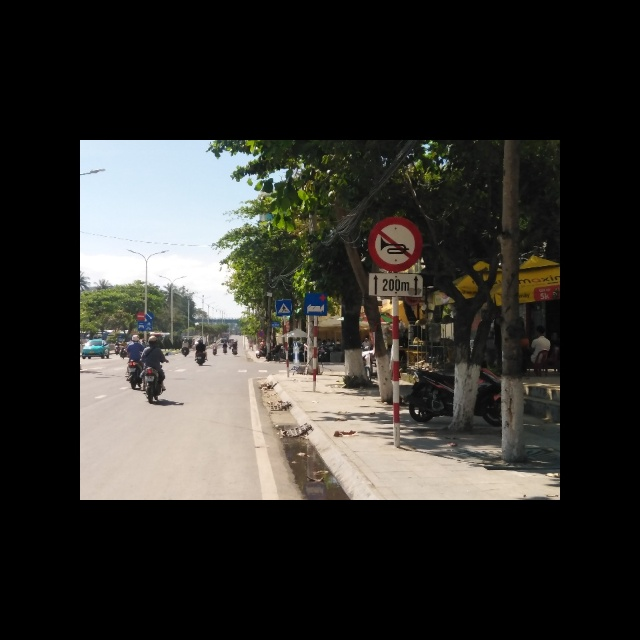Bệnh viện: (303, 292, 327, 317)
Cấm bấm còi: (369, 217, 422, 272)
Đường dành cho người đi bộ: (275, 299, 292, 317)
